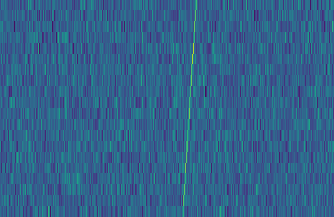signal: (178, 0, 201, 217)
